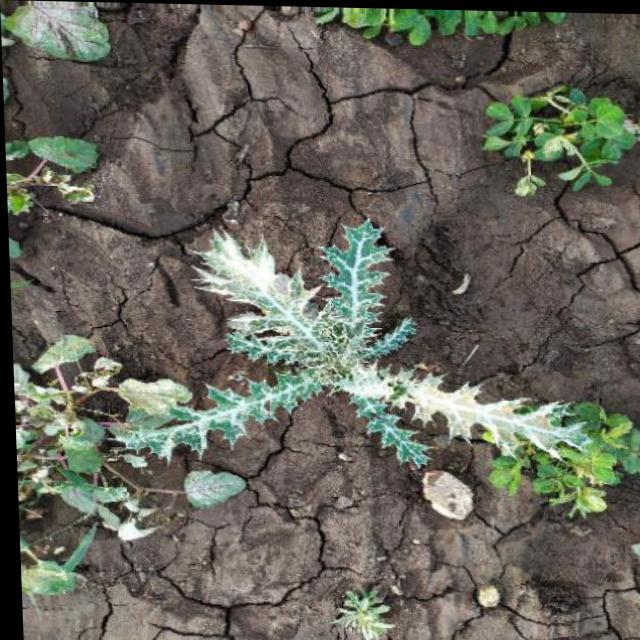weed: (7, 190, 594, 569), (448, 59, 640, 191)
